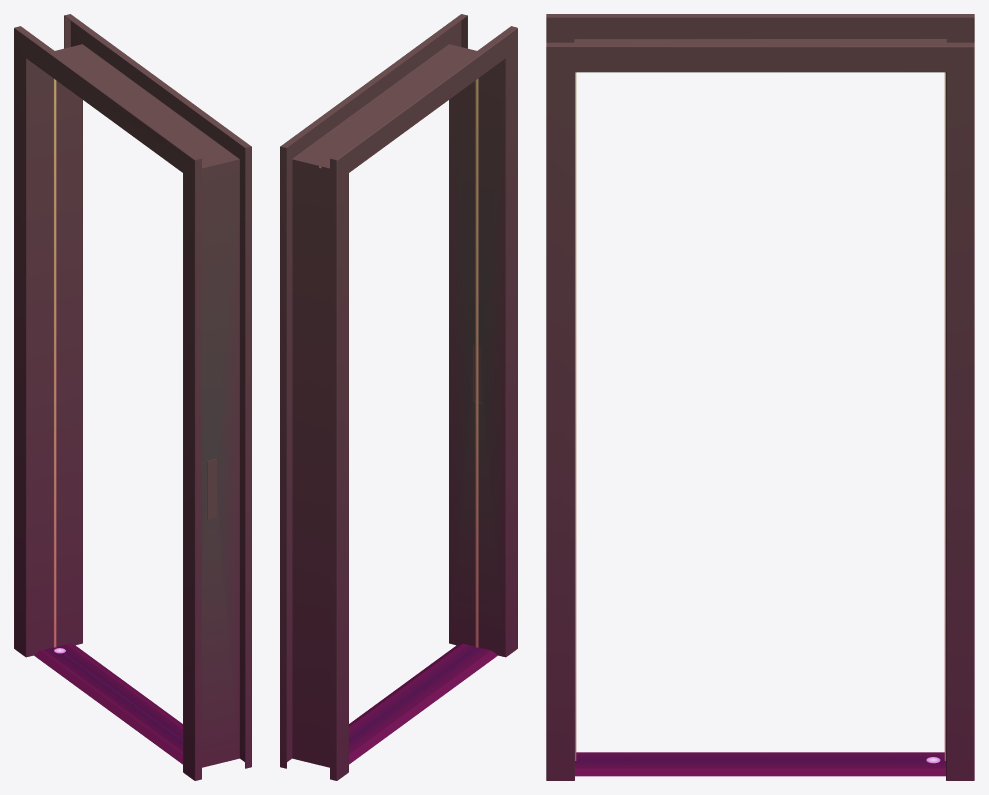
File: Kit_DoorFrame_Steel_DA.fbx
The picture shows the model from 3 angles, left to right: view 1: azimuth 30°, elevation 25°; view 2: azimuth 150°, elevation 25°; view 3: azimuth 270°, elevation 25°; orthographic projection. The views are drawn at different scales.
Parts seen in each view (by area): view 1: Kit_DoorFrame_Steel_DA_LOD0; view 2: Kit_DoorFrame_Steel_DA_LOD0; view 3: Kit_DoorFrame_Steel_DA_LOD0.
Boxes of the visible parts, x1,y1,x2,y2 form: Kit_DoorFrame_Steel_DA_LOD0: (14,14,251,780); Kit_DoorFrame_Steel_DA_LOD0: (280,14,517,780); Kit_DoorFrame_Steel_DA_LOD0: (546,14,974,780).
Size of what is drawn, in the model's own units: 0.21 by 2.17 by 1.15.
